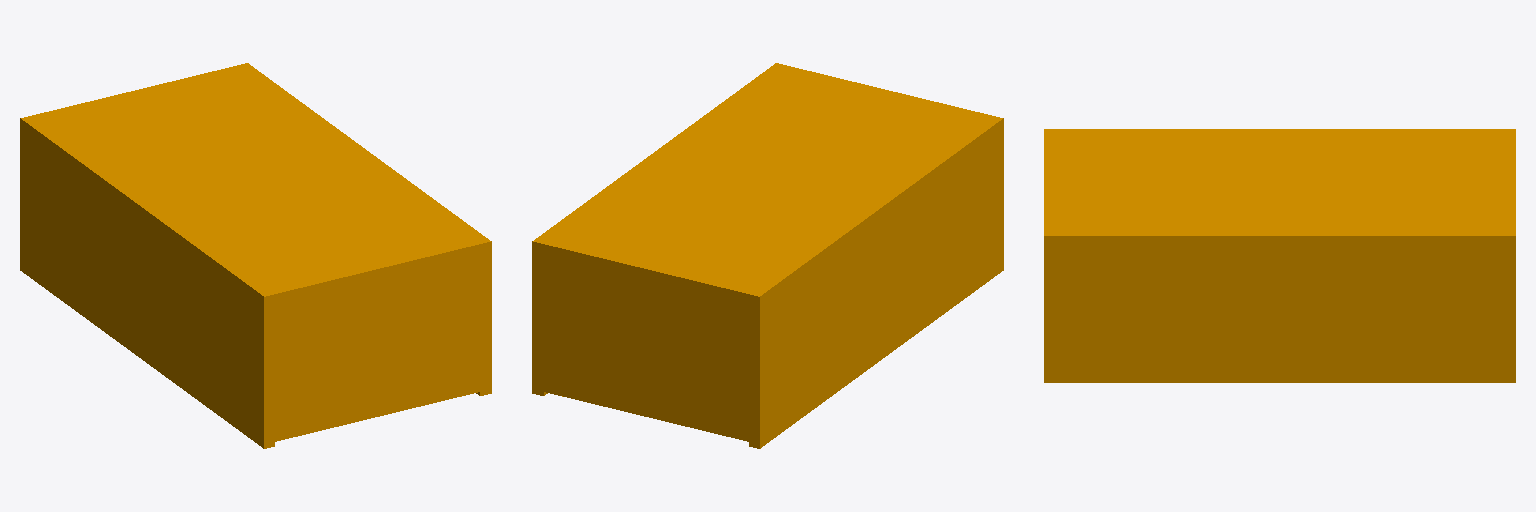
robot.urdf — tray:
<?xml version="1.0"?>
<robot name="tray">
  <link name="tray">
    <inertial>
      <mass value="1.2" />
      <inertia ixx="0.0001" ixy="0.0" ixz="0.0" iyy="0.0001" iyz="0.0" izz="0.0001" />
    </inertial>
    <visual name="rail_left">
      <geometry>
        <mesh filename="meshes/rail_left.obj" />
      </geometry>
    </visual>
    <visual name="rail_right">
      <geometry>
        <mesh filename="meshes/rail_right.obj" />
      </geometry>
    </visual>
    <visual name="body">
      <geometry>
        <mesh filename="meshes/body.obj" />
      </geometry>
    </visual>
    <collision name="rail_left">
      <geometry>
        <mesh filename="meshes/rail_left.obj" />
      </geometry>
    </collision>
    <collision name="rail_right">
      <geometry>
        <mesh filename="meshes/rail_right.obj" />
      </geometry>
    </collision>
    <collision name="body">
      <geometry>
        <mesh filename="meshes/body.obj" />
      </geometry>
    </collision>
  </link>
</robot>

--- Render facts (derived) ---
3 views of the same robot in one strip: view 1: azimuth 30°, elevation 25°; view 2: azimuth 150°, elevation 25°; view 3: azimuth 270°, elevation 25° (orthographic).
Robot: tray — 1 links, 0 joints (none); root link tray; default pose: all joints at 0.
Visible links, largest first — view 1: tray; view 2: tray; view 3: tray.
Link boxes in pixels (box(x1,y1,x2,y2)): tray: box(20, 63, 491, 448); tray: box(532, 63, 1003, 448); tray: box(1044, 129, 1515, 382).
Bounding box of the posed robot: 0.1329 × 0.247 × 0.0851 m (x, y, z).
Meshes: 3 distinct files referenced, 3 mesh visuals loaded (3 OBJ).
